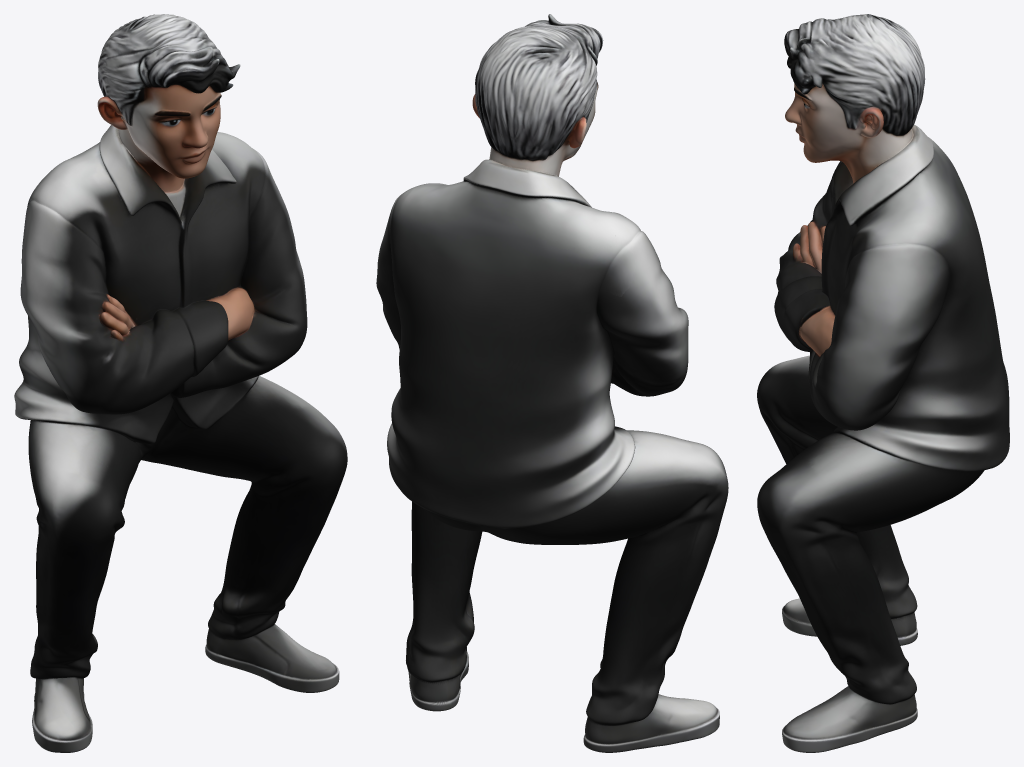
The model's file is DeckaUnity.fbx.
3 views of the same model, side by side, from view 1: azimuth 30°, elevation 25°; view 2: azimuth 150°, elevation 25°; view 3: azimuth 270°, elevation 25° (orthographic). The views are drawn at different scales.
Visible parts, largest first — view 1: tripo_node_5fb50c92; view 2: tripo_node_5fb50c92; view 3: tripo_node_5fb50c92.
Part boxes in pixels (bbox=[...]): tripo_node_5fb50c92: bbox=[14, 14, 347, 752]; tripo_node_5fb50c92: bbox=[376, 14, 728, 752]; tripo_node_5fb50c92: bbox=[757, 14, 1009, 752].
Size of the model in its own units: 0.4556 by 1 by 0.3452.
